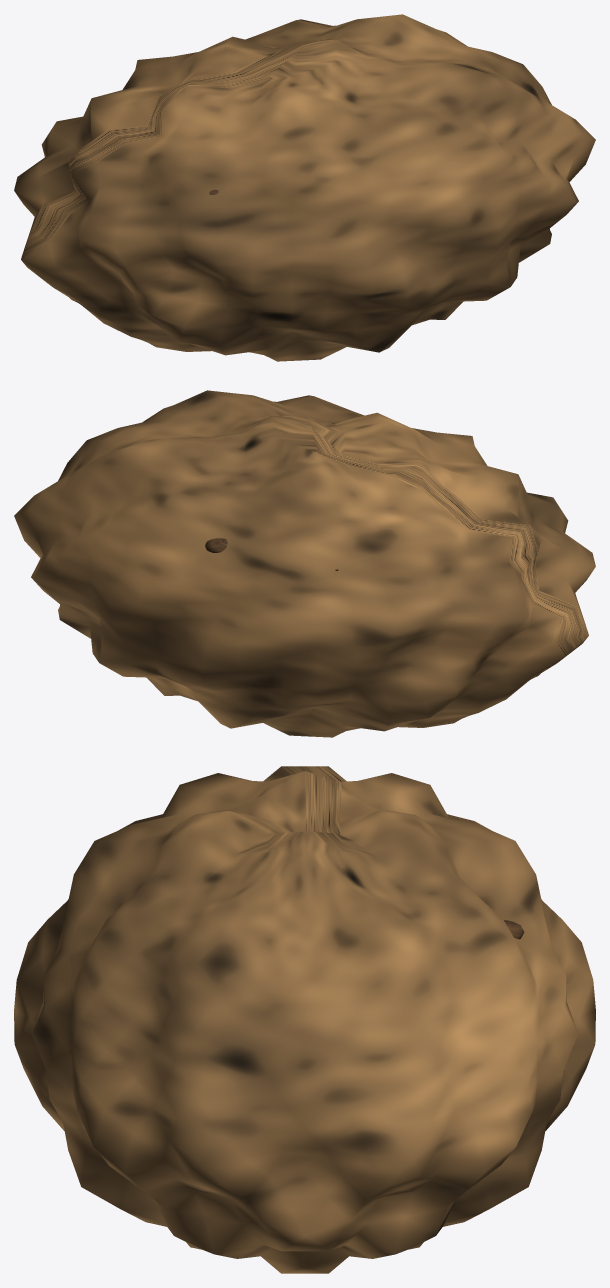
Rendered from potato.glb.
The picture shows the model from 3 angles, top to bottom: view 1: azimuth 30°, elevation 25°; view 2: azimuth 150°, elevation 25°; view 3: azimuth 270°, elevation 25°; orthographic projection. The views are drawn at different scales.
Parts seen in each view (by area): view 1: potato; view 2: potato; view 3: potato.
Boxes of the visible parts, x1=… form: potato: x1=14, y1=14, x2=595, y2=361; potato: x1=14, y1=390, x2=595, y2=737; potato: x1=14, y1=766, x2=595, y2=1273.
Bounding box in the file's own units: 0.1236 × 0.062 × 0.0872.
Materials: 2 (2 with a texture image).
